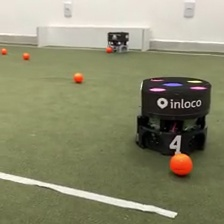ball: (168, 151, 194, 179), (73, 71, 84, 83), (21, 51, 30, 60), (105, 45, 113, 53), (1, 46, 8, 55)
goal: (36, 24, 152, 52)
robot: (134, 74, 214, 158), (104, 30, 130, 54)
